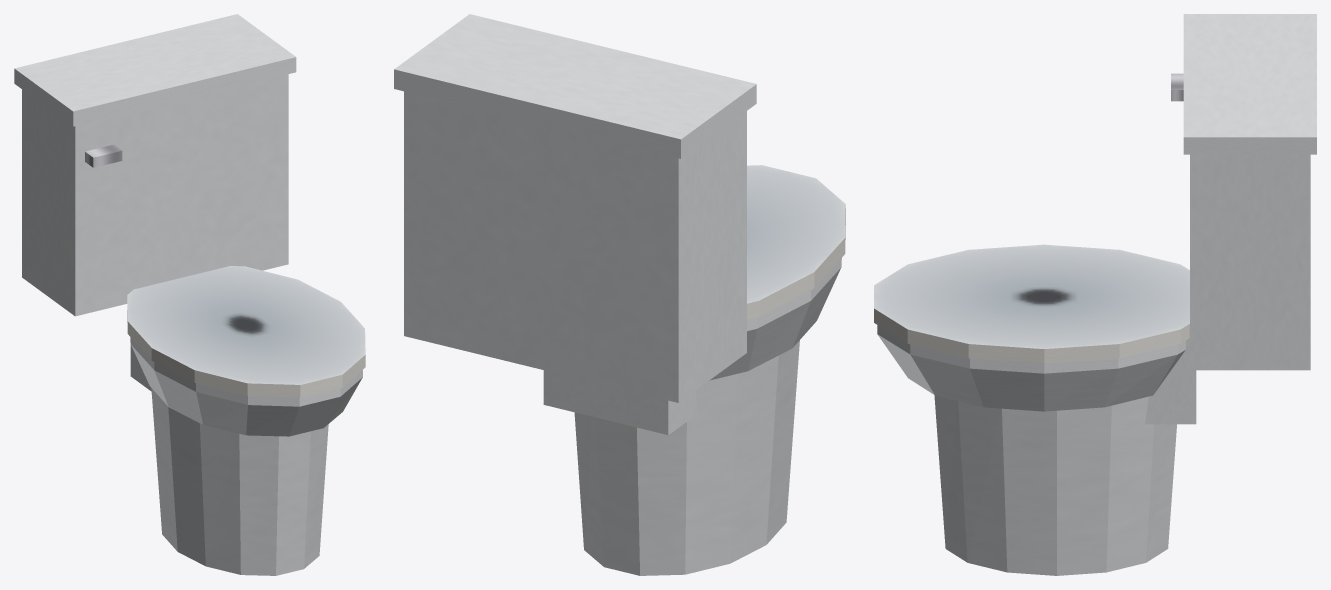
The model's file is toilet.obj.
The picture shows the model from 3 angles, left to right: view 1: azimuth 30°, elevation 25°; view 2: azimuth 150°, elevation 25°; view 3: azimuth 270°, elevation 25°; orthographic projection. The views are drawn at different scales.
Bounding box in the file's own units: 0.46 × 0.81 × 0.6981.
Materials: 1 (1 with a texture image).
